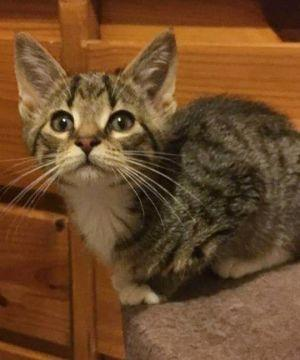bengal: (10, 23, 196, 204)
